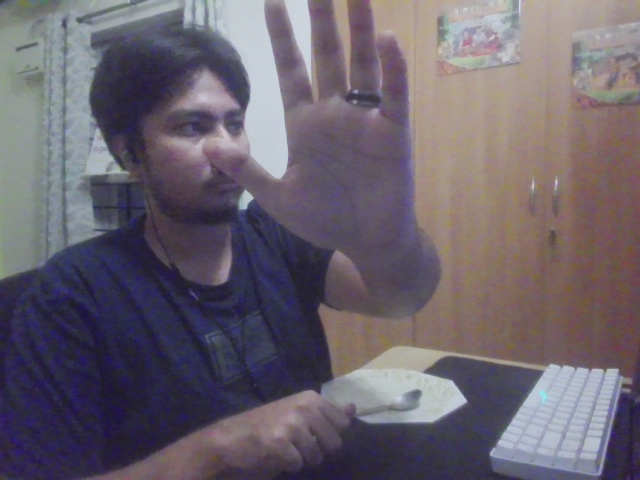hello: (202, 1, 420, 254)
